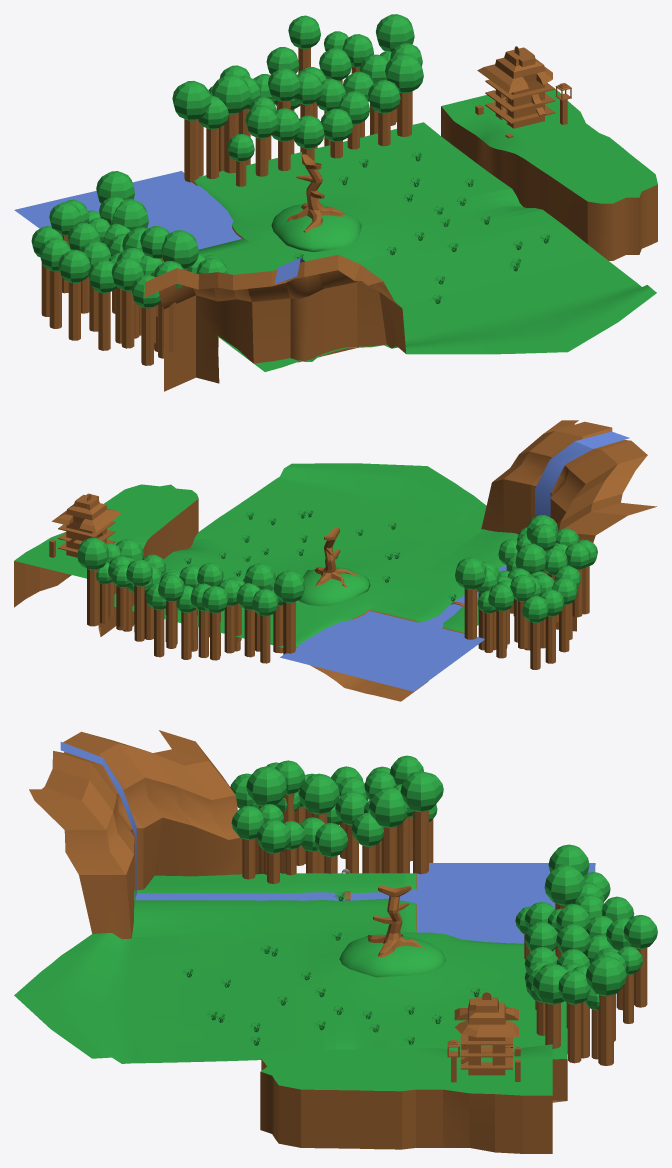
File: Level 1 11-18-15.fbx
The picture shows the model from 3 angles, top to bottom: view 1: azimuth 30°, elevation 25°; view 2: azimuth 150°, elevation 25°; view 3: azimuth 270°, elevation 25°; orthographic projection. The views are drawn at different scales.
Visible parts, largest first — view 1: Ground, pPlane2, Water, pCube70, pSphere65, pSphere32, pSphere8, pSphere24, pSphere44, pSphere43, pSphere53, pSphere52 (+30 smaller); view 2: Ground, pPlane2, Water, pCube70, pSphere65, pSphere16, pSphere32, pSphere48, pSphere26, pSphere27, pSphere28, pSphere29 (+28 smaller); view 3: Ground, pPlane2, Water, pCube70, pSphere65, pSphere16, pSphere48, pSphere40, pSphere8, pSphere15, pSphere26, Hill_Tree (+20 smaller).
Boxes of the visible parts, x1,y1,x2,y2 form: Ground: (192,89,657,371); pPlane2: (144,254,406,391); Water: (14,171,304,283); pCube70: (475,46,571,138); pSphere65: (271,204,361,251); pSphere32: (172,80,211,182); pSphere8: (385,53,423,136); pSphere24: (212,74,250,173); pSphere44: (58,249,90,340); pSphere43: (111,257,143,348); pSphere53: (88,260,116,350); pSphere52: (39,238,70,328); Ground: (14,463,518,701); pPlane2: (481,420,656,631); Water: (280,431,629,691); pCube70: (49,493,121,557); pSphere65: (299,567,370,606); pSphere16: (77,537,108,626); pSphere32: (273,570,305,654); pSphere48: (455,557,486,639); pSphere26: (126,559,152,633); pSphere27: (158,574,184,648); pSphere28: (201,586,228,660); pSphere29: (252,589,278,663); Ground: (14,873,567,1153); pPlane2: (29,730,242,939); Water: (60,742,595,943); pCube70: (447,992,520,1082); pSphere65: (339,934,445,977); pSphere16: (585,955,626,1065); pSphere48: (400,771,441,874); pSphere40: (369,787,407,873); pSphere8: (532,963,567,1048); pSphere15: (558,970,591,1063); pSphere26: (623,915,657,1007); Hill_Tree: (367,885,425,957).
Size of the model in its own units: 483 by 132 by 445.
